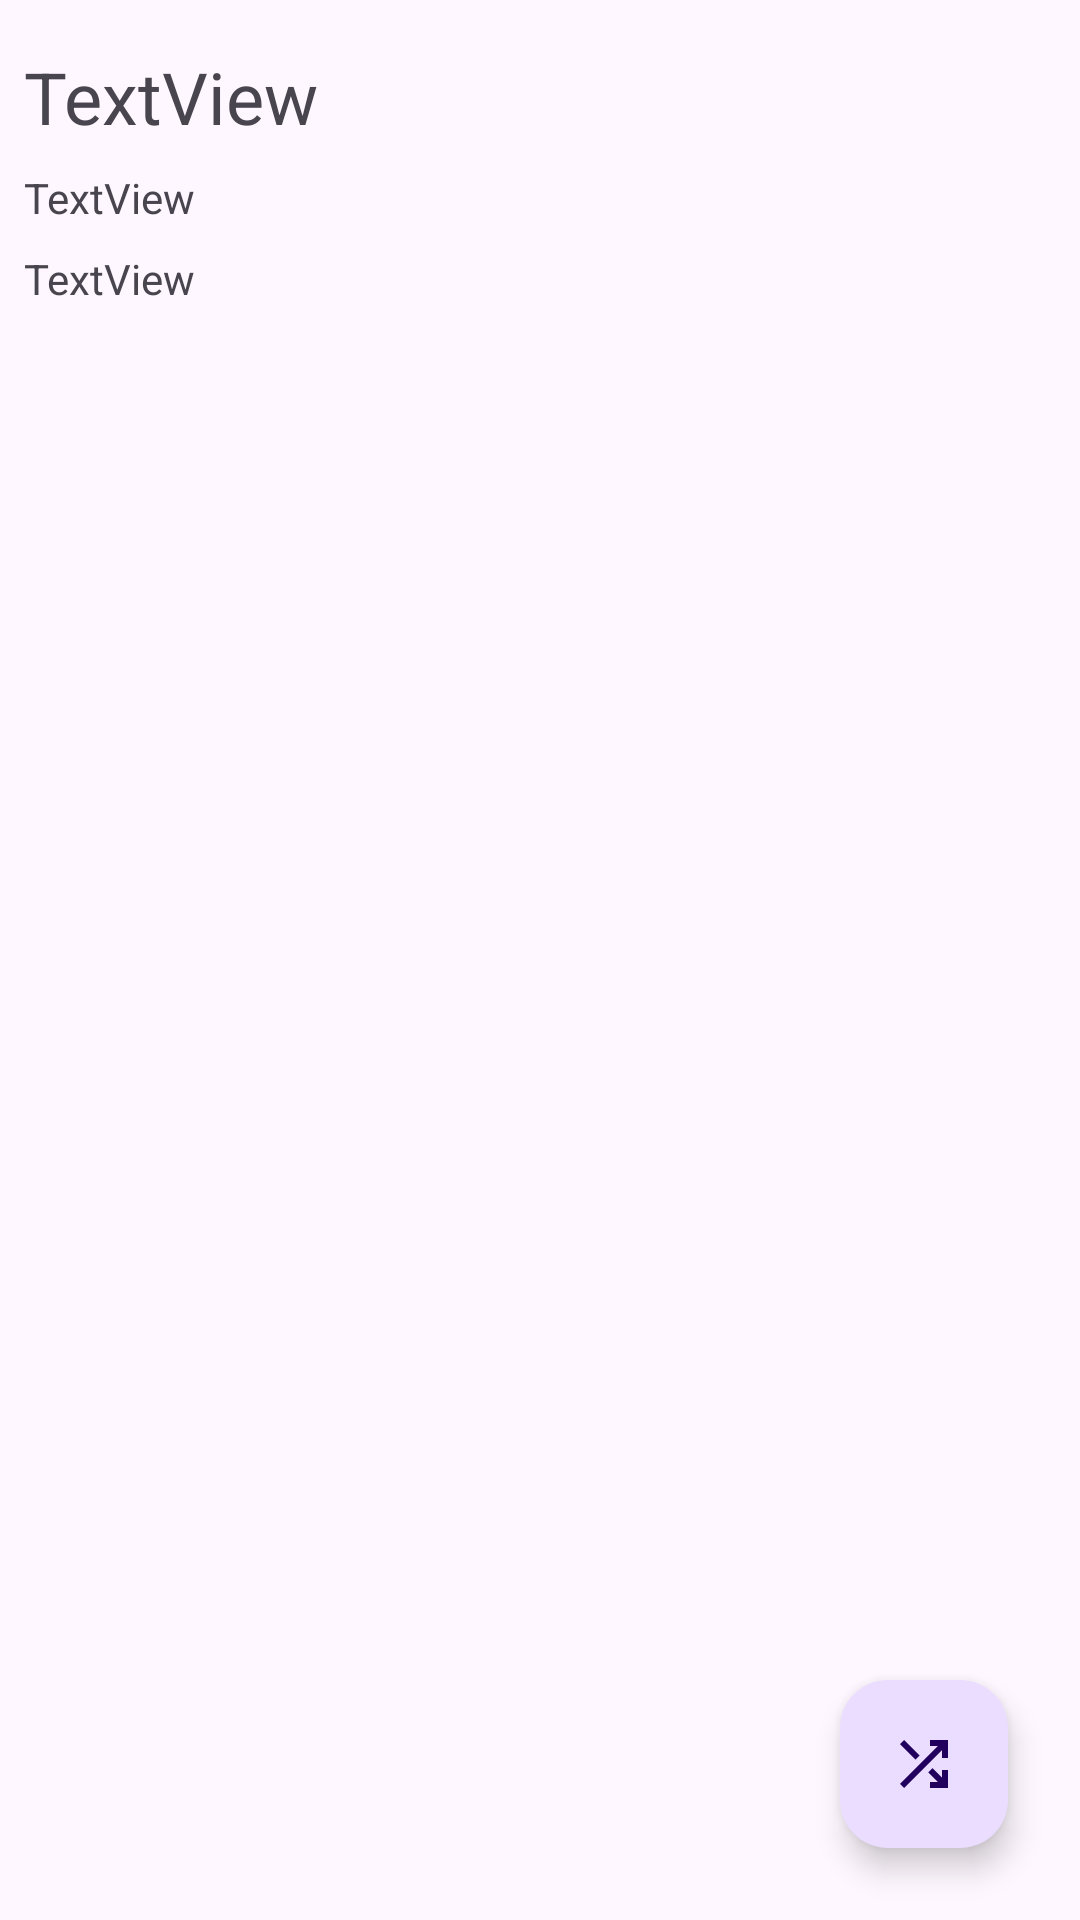

Named icons in this screenshot (1080 x 1920) and their centers, (x,y):
shuffle: (924,1764)
